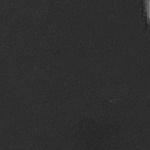colony: (135, 0, 150, 49), (148, 114, 150, 150)
